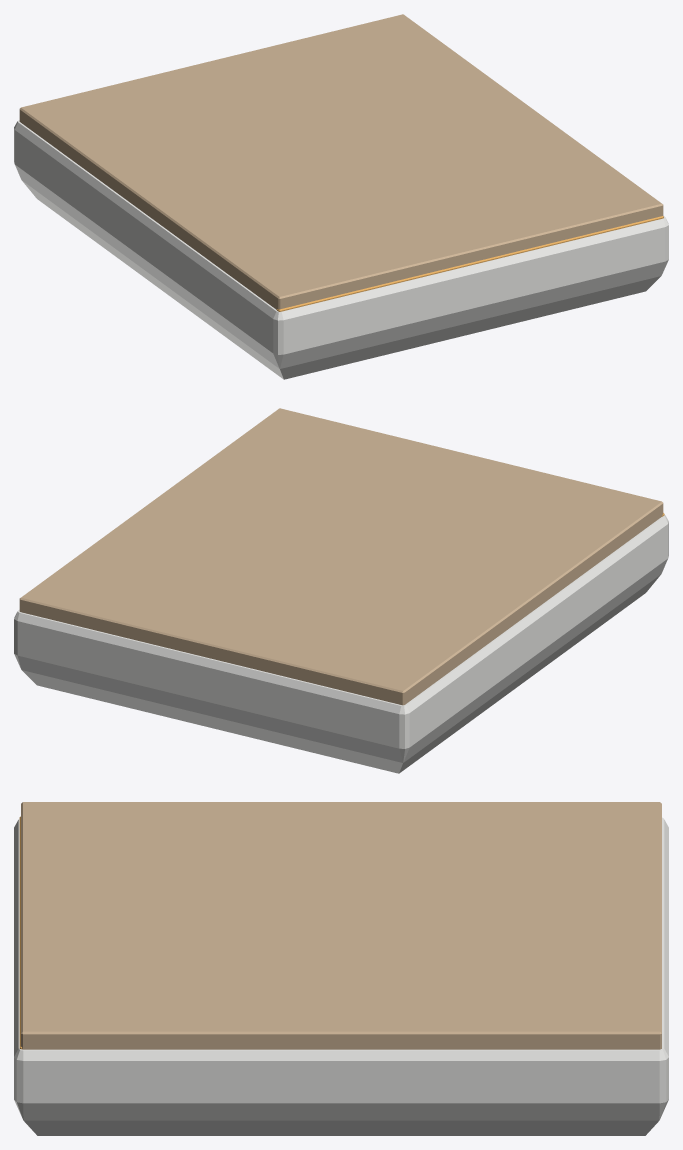
File: office-lobby-and-facilities-stair-landing-module-e4b58821__26163.glb
3 views of the same model, one above another, from view 1: azimuth 30°, elevation 25°; view 2: azimuth 150°, elevation 25°; view 3: azimuth 270°, elevation 25° (orthographic). The views are drawn at different scales.
Parts seen in each view (by area): view 1: stair-landing-module; view 2: stair-landing-module; view 3: stair-landing-module.
Part boxes in pixels (x1,y1,x2,y2): stair-landing-module: (14, 14, 668, 379); stair-landing-module: (14, 408, 668, 773); stair-landing-module: (14, 802, 668, 1135).
Bounding box in the file's own units: 1.2 × 0.26 × 1.4.
